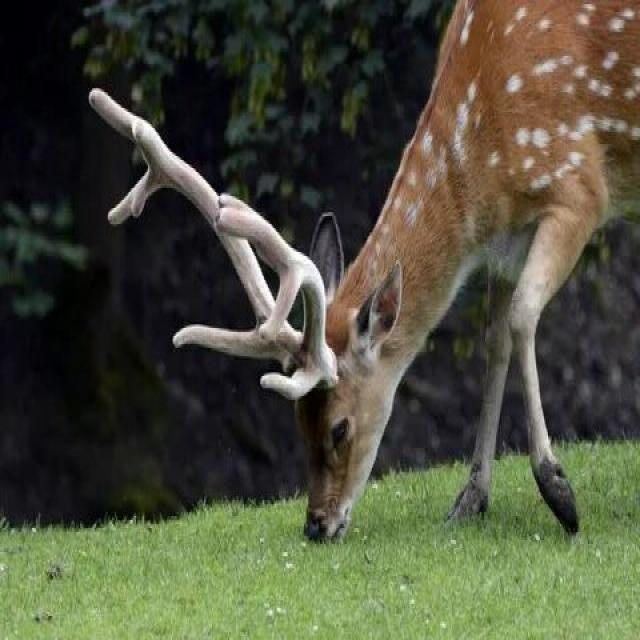deer: (96, 34, 542, 570)
